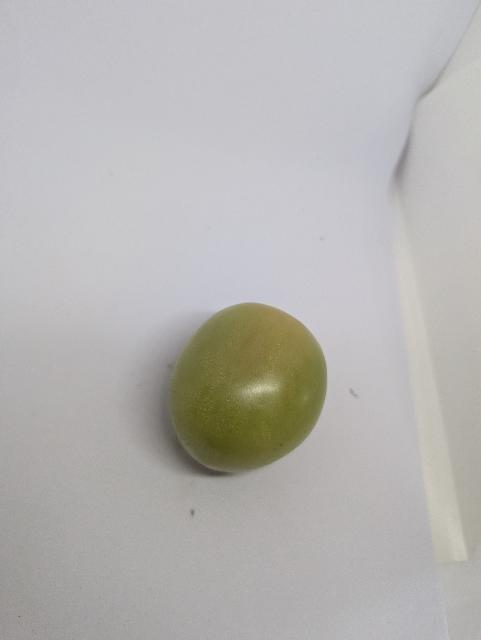green: (144, 295, 335, 477)
